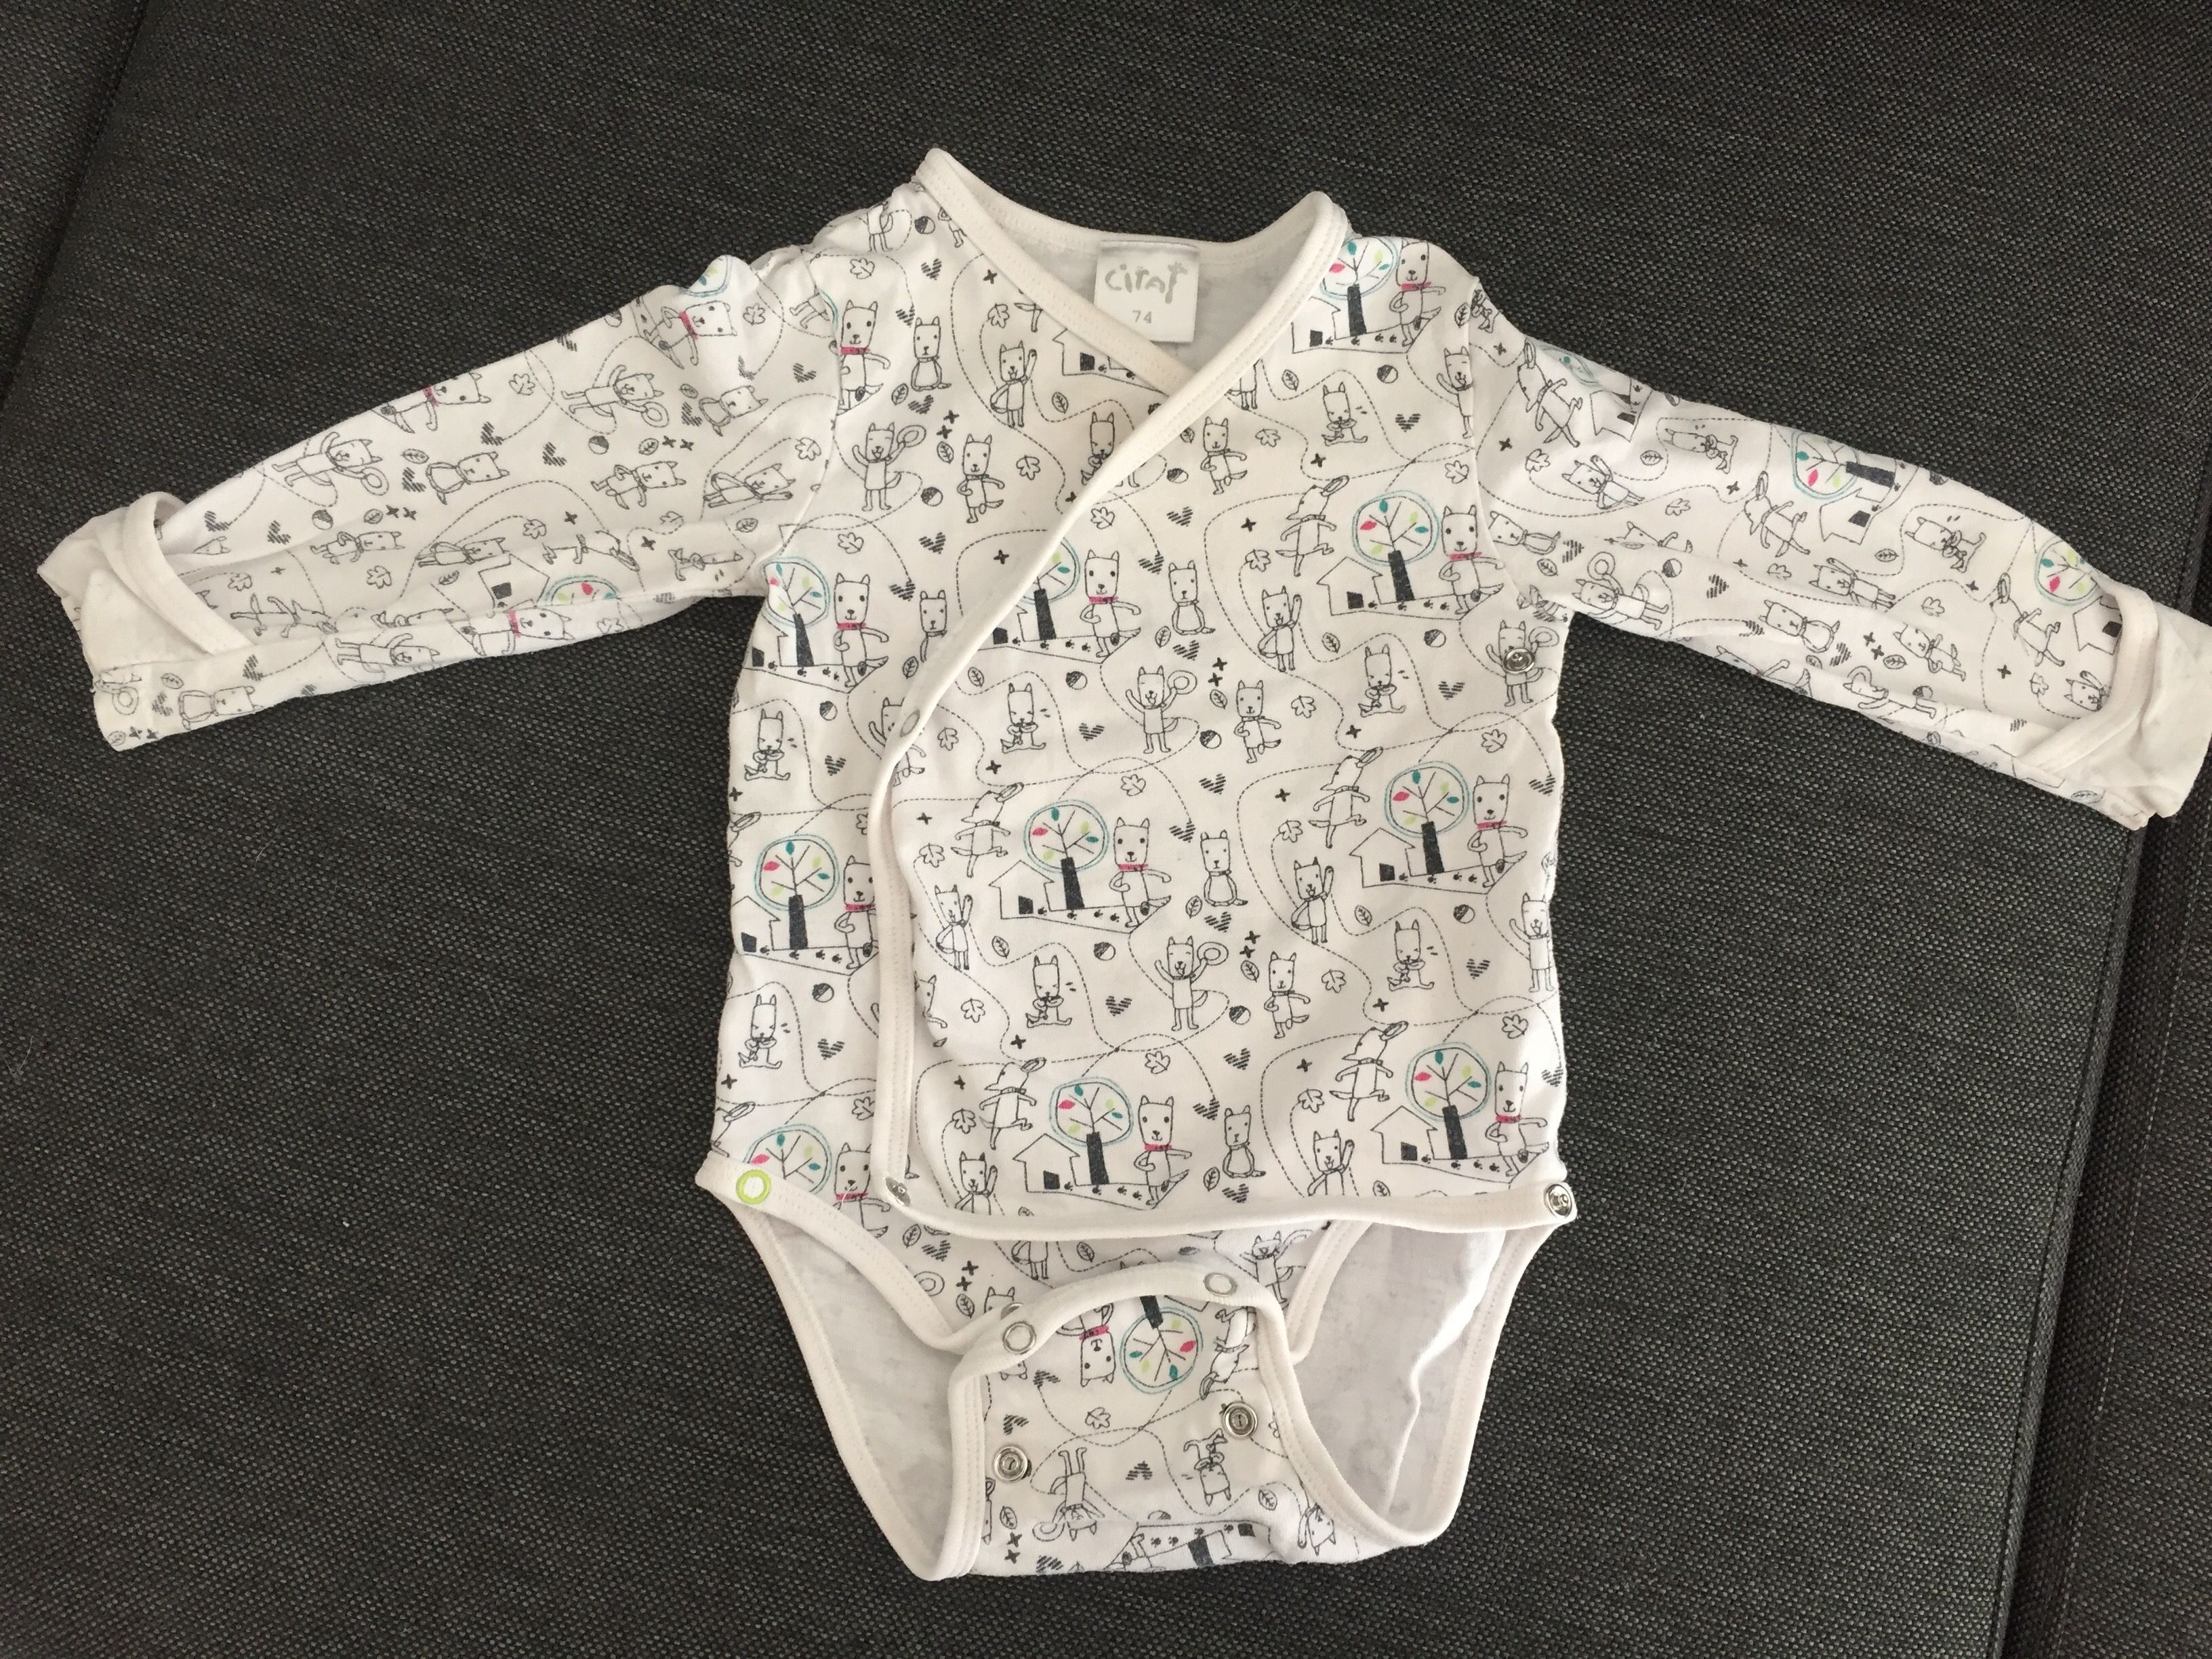clothes: (68, 145, 2212, 1570)
